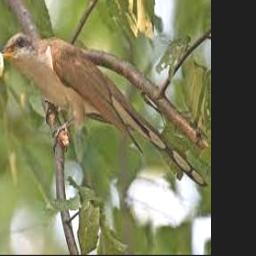Cuckoo: (0, 33, 208, 188)
